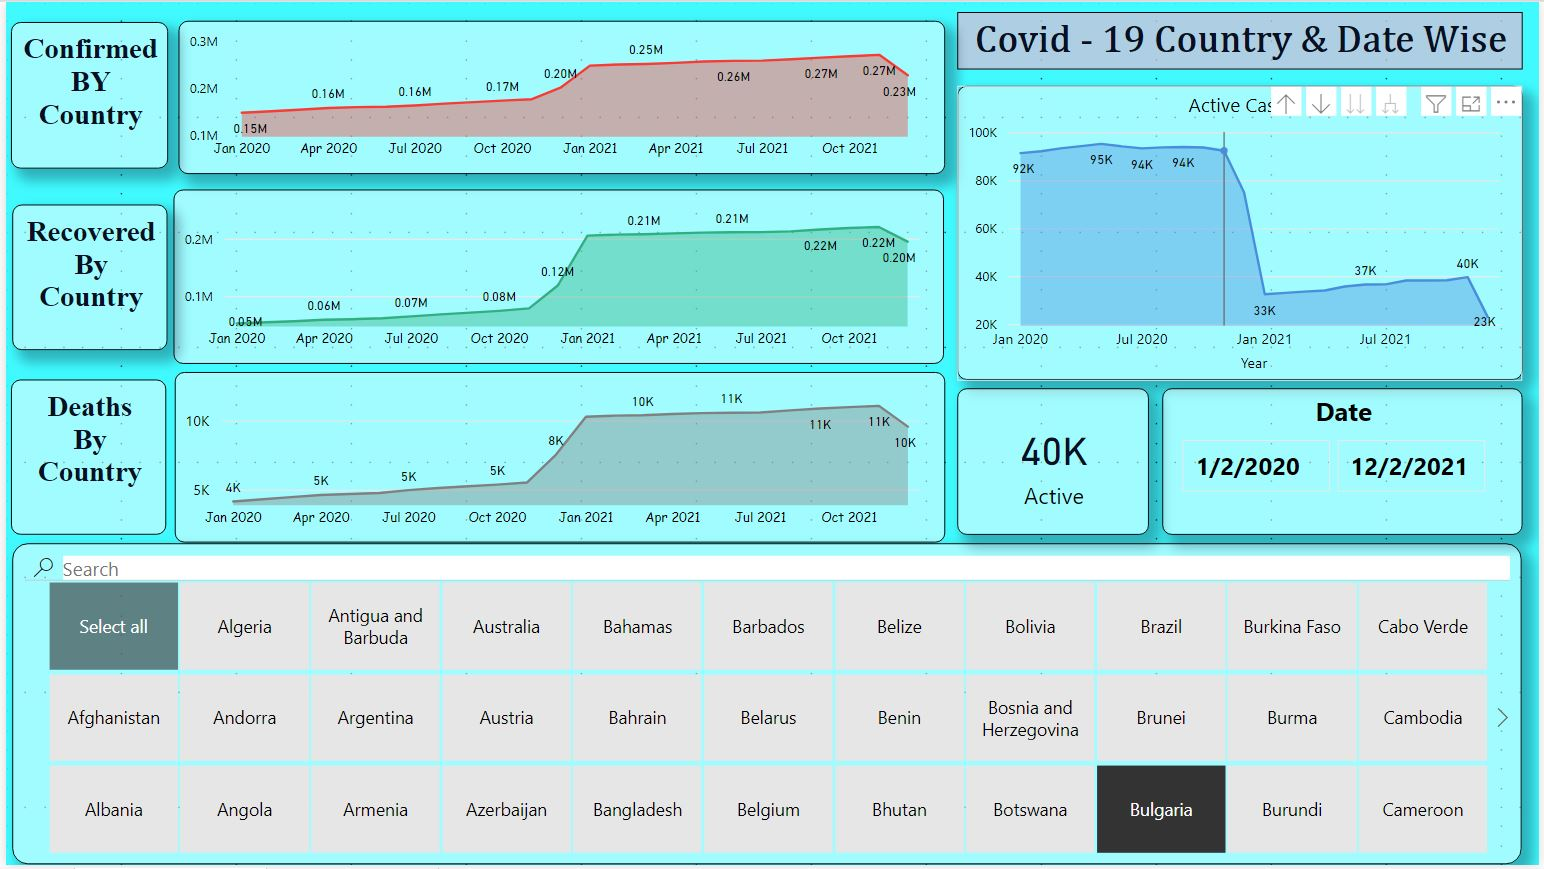

What the dashboard file says about the page in this screenshot:
{"tool":"powerbi","page":{"name":"Covid Country Cases","canvas":[1280,720],"ordinal":1},"visuals":[{"type":"textbox","box":[794.5,8.3,471.7,48.3],"z":0},{"type":"areaChart","title":"Confirmed by Year and Month","fields":{"Category":["covid_cases_data.Date.Variation.Date Hierarchy.Year","covid_cases_data.Date.Variation.Date Hierarchy.Month"],"Y":["Max(covid_cases_data.Confirmed)"]},"box":[144,16,640,128],"z":1000},{"type":"areaChart","fields":{"Category":["covid_cases_data.Date.Variation.Date Hierarchy.Year","covid_cases_data.Date.Variation.Date Hierarchy.Month"],"Y":["Max(covid_cases_data.Deaths)"]},"box":[141.1,309.4,643,142.6],"z":2000},{"type":"areaChart","fields":{"Category":["covid_cases_data.Date.Variation.Date Hierarchy.Year","covid_cases_data.Date.Variation.Date Hierarchy.Month"],"Y":["Max(covid_cases_data.Recovered)"]},"box":[140.1,157,643.5,145.3],"z":3000},{"type":"slicer","fields":{"Values":["covid_cases_data.Country"]},"box":[5.7,452,1260.4,268],"z":4000},{"type":"areaChart","title":"Active Cases","fields":{"Category":["covid_cases_data.Date.Variation.Date Hierarchy.Year","covid_cases_data.Date.Variation.Date Hierarchy.Month"],"Y":["covid_cases_data.Active"]},"box":[794.5,70.3,471.7,245.5],"z":5000},{"type":"textbox","box":[4.1,16.6,131,122.8],"z":6000},{"type":"textbox","box":[5.2,168.6,129.7,121.9],"z":7000},{"type":"textbox","box":[4.3,315.1,129.7,129.7],"z":8000},{"type":"slicer","title":"Date","fields":{"Values":["covid_cases_data.Date"]},"box":[965.2,322.2,300.8,122.6],"z":9000},{"type":"card","fields":{"Values":["covid_cases_data.Active"]},"box":[794.1,322.2,159.7,122.6],"z":10000}]}

Visuals, with their boxes in screenshot pixels (x1, y1, x2, y2), scaled from the page's 1280x720 canvas onto the 1544x869 screenshot:
textbox: [x1=958, y1=10, x2=1527, y2=68]
"Confirmed by Year and Month" areaChart: [x1=174, y1=19, x2=946, y2=174]
areaChart - covid_cases_data.Date.Variation.Date Hierarchy.Year x covid_cases_data.Date.Variation.Date Hierarchy.Month: [x1=170, y1=373, x2=946, y2=546]
areaChart - covid_cases_data.Date.Variation.Date Hierarchy.Year x covid_cases_data.Date.Variation.Date Hierarchy.Month: [x1=169, y1=189, x2=945, y2=365]
slicer - covid_cases_data.Country: [x1=7, y1=546, x2=1527, y2=868]
"Active Cases" areaChart: [x1=958, y1=85, x2=1527, y2=381]
textbox: [x1=5, y1=20, x2=163, y2=168]
textbox: [x1=6, y1=203, x2=163, y2=351]
textbox: [x1=5, y1=380, x2=162, y2=537]
"Date" slicer: [x1=1164, y1=389, x2=1527, y2=537]
card - covid_cases_data.Active: [x1=958, y1=389, x2=1151, y2=537]
